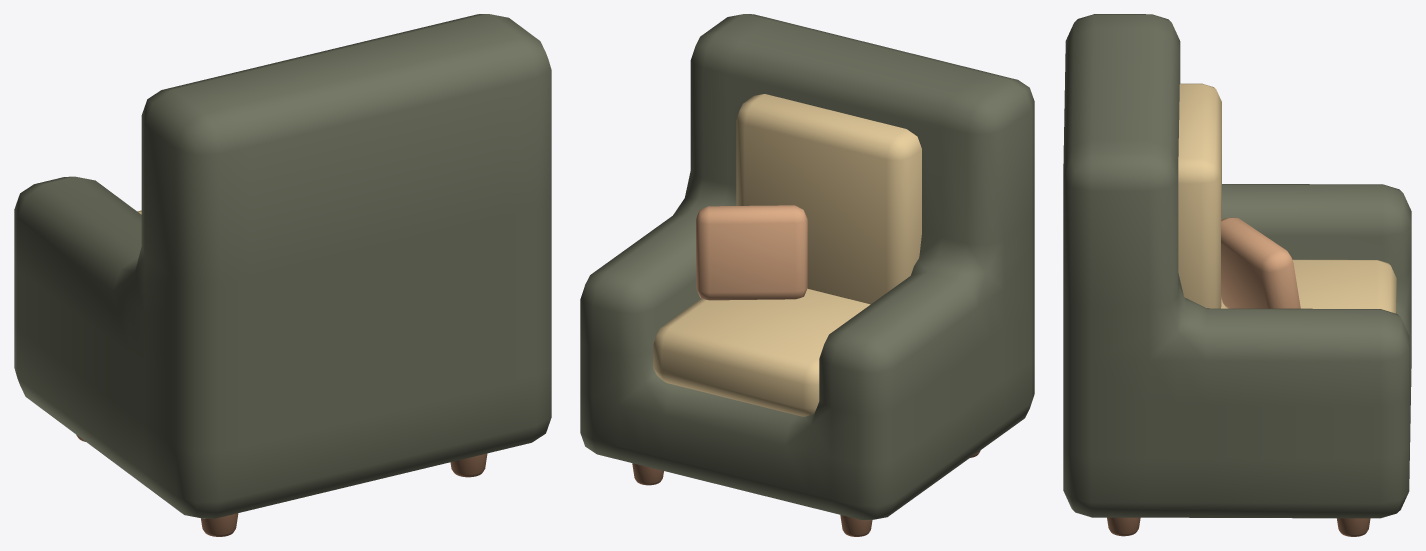
Rendered from armchair.fbx.
3 renders of one model, left to right at view 1: azimuth 30°, elevation 25°; view 2: azimuth 150°, elevation 25°; view 3: azimuth 270°, elevation 25°, orthographic. The views are drawn at different scales.
Parts seen in each view (by area): view 1: Armchair, Armchair_Legs; view 2: Armchair, Armchair_Back_Cushion, Armchair_Seat_Cushion, Armchair_Throw_Pillow, Armchair_Legs; view 3: Armchair, Armchair_Back_Cushion, Armchair_Throw_Pillow, Armchair_Seat_Cushion, Armchair_Legs.
Part boxes in pixels (<box>): Armchair: <box>14,14,551,518</box>; Armchair_Legs: <box>76,435,487,536</box>; Armchair: <box>580,14,1034,520</box>; Armchair_Back_Cushion: <box>736,94,921,304</box>; Armchair_Seat_Cushion: <box>653,288,870,416</box>; Armchair_Throw_Pillow: <box>696,205,807,300</box>; Armchair_Legs: <box>632,450,980,536</box>; Armchair: <box>1063,14,1411,518</box>; Armchair_Back_Cushion: <box>1178,83,1221,308</box>; Armchair_Throw_Pillow: <box>1221,217,1300,308</box>; Armchair_Seat_Cushion: <box>1221,259,1396,313</box>; Armchair_Legs: <box>1107,517,1370,536</box>.
Size of the model in its own units: 201 by 226 by 182.
